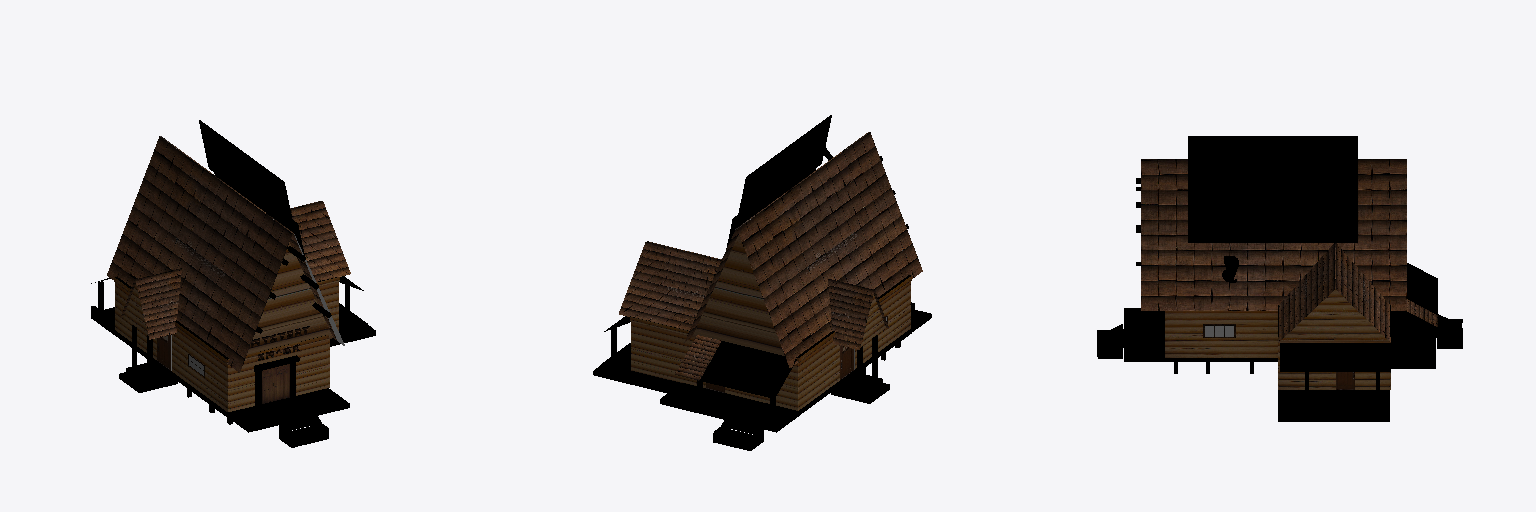
3 renders of one model, left to right at view 1: azimuth 30°, elevation 25°; view 2: azimuth 150°, elevation 25°; view 3: azimuth 270°, elevation 25°, orthographic.
Visible parts, largest first — view 1: Cabana:polySurface66, Cabana:polySurface5, Cabana:pPlane4, Cabana:polySurface35; view 2: Cabana:polySurface66, Cabana:pPlane4, Cabana:polySurface5, Cabana:polySurface35; view 3: Cabana:polySurface66, Cabana:pPlane4, Cabana:polySurface5.
Part boxes in pixels (x1,y1,x2,y2): Cabana:polySurface66: (107, 120, 350, 372); Cabana:polySurface5: (115, 282, 338, 411); Cabana:pPlane4: (91, 276, 375, 447); Cabana:polySurface35: (114, 277, 339, 363); Cabana:polySurface66: (619, 115, 922, 367); Cabana:pPlane4: (593, 302, 931, 450); Cabana:polySurface5: (631, 281, 910, 410); Cabana:polySurface35: (630, 275, 911, 362); Cabana:polySurface66: (1136, 136, 1406, 342); Cabana:pPlane4: (1097, 263, 1462, 421); Cabana:polySurface5: (1160, 311, 1390, 389).
Bounding box in the file's own units: 123 × 110 × 163.
13 materials, 5 textured.